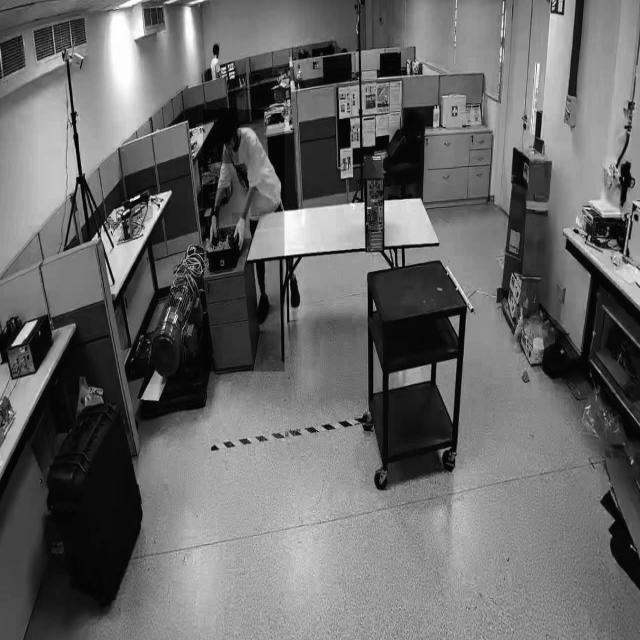face_mask: (222, 128, 238, 164)
hand_glove: (232, 212, 246, 257), (211, 206, 219, 246)
head_nohelmet: (218, 108, 238, 127), (213, 42, 220, 49)
person: (202, 110, 284, 372)
shoes: (287, 270, 302, 312), (255, 288, 272, 324)
